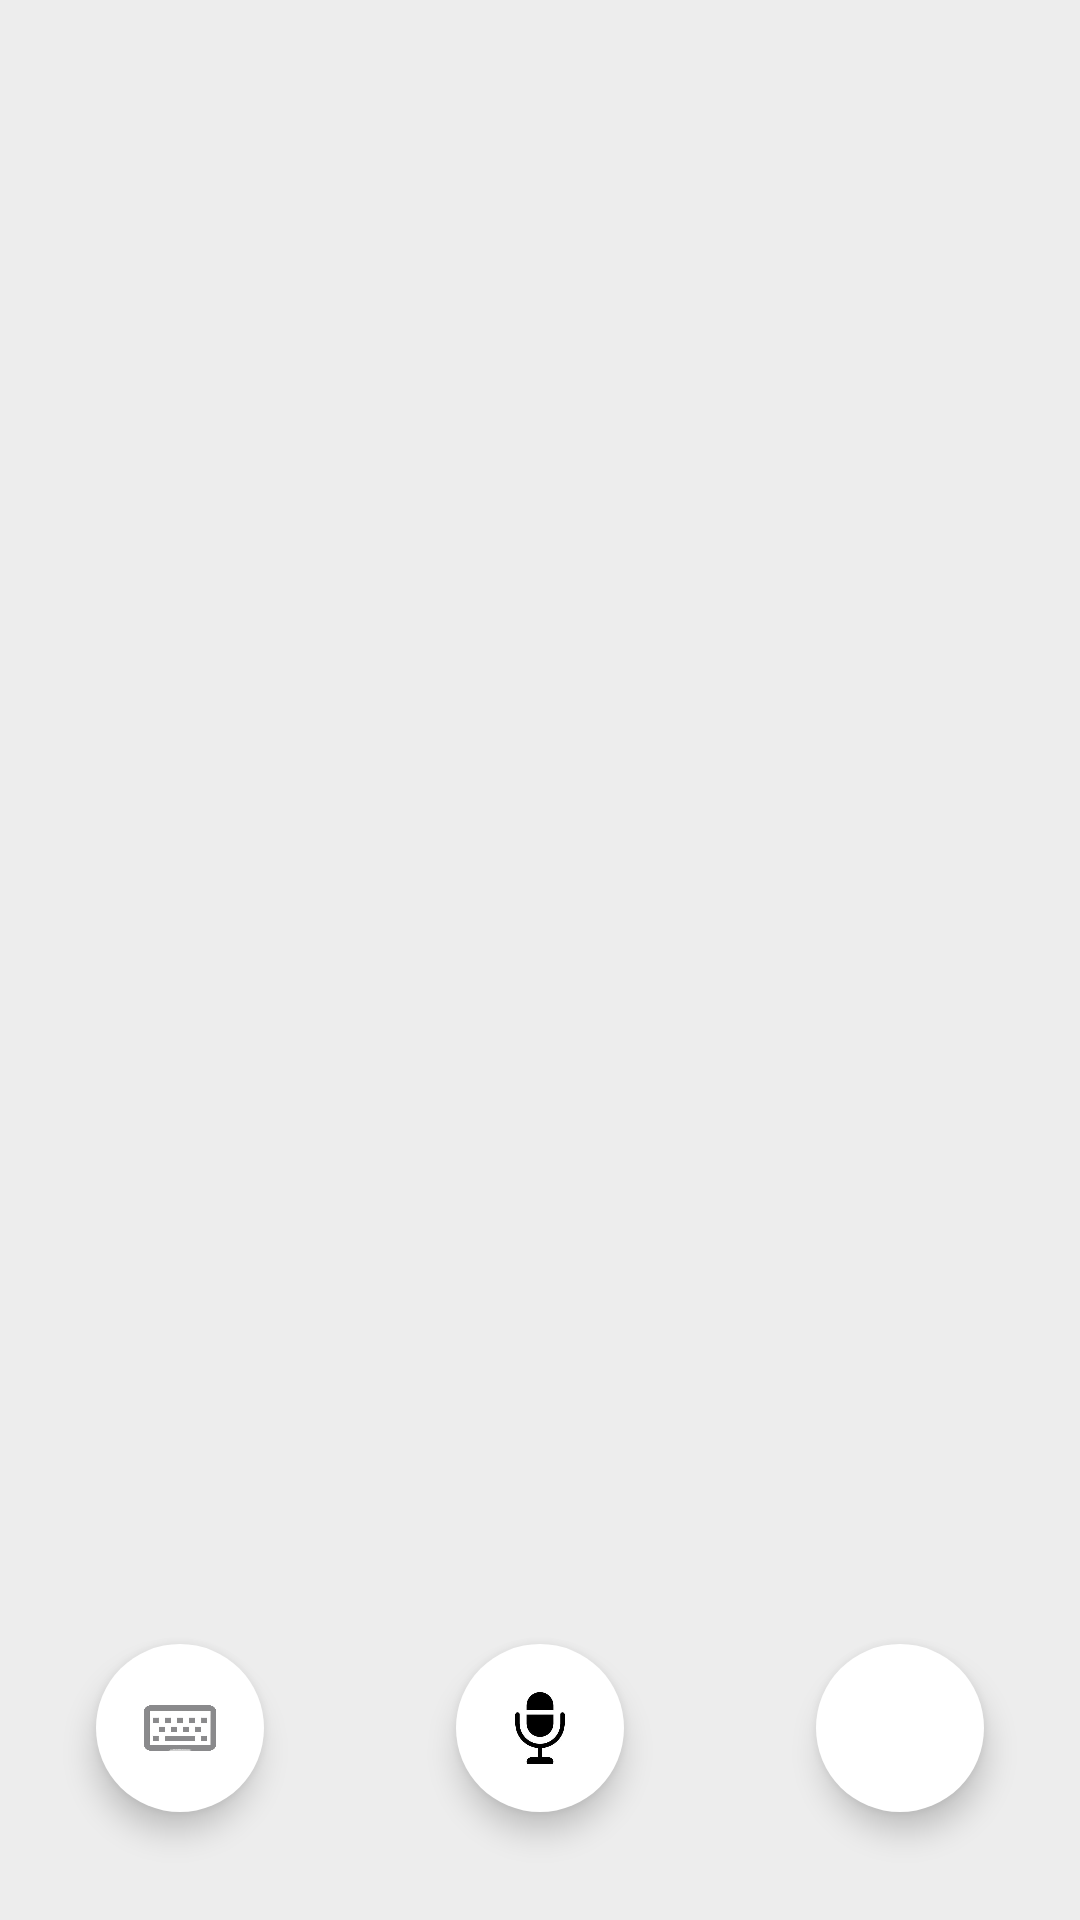

Named icons in this screenshot (1080×1920) and their bounding boxes, (x1, y1, x2, y2):
microfen: (456, 1644, 624, 1812)
